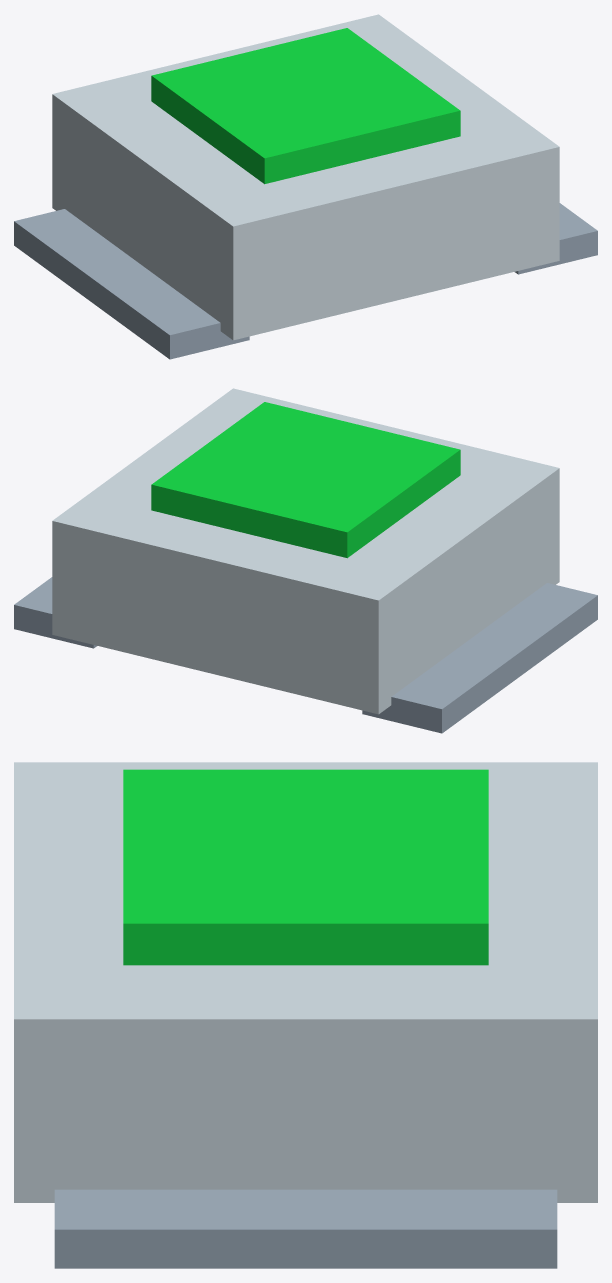
Rendered from 42_L96_LED1_LED.fbx.
The picture shows the model from 3 angles, top to bottom: view 1: azimuth 30°, elevation 25°; view 2: azimuth 150°, elevation 25°; view 3: azimuth 270°, elevation 25°; orthographic projection. The views are drawn at different scales.
Parts seen in each view (by area): view 1: LED1_000_SMD_LED_Reflector, LED1_001_Green_Emitter, LED1_002_Solder_Contact, LED1_003_Solder_Contact; view 2: LED1_000_SMD_LED_Reflector, LED1_001_Green_Emitter, LED1_002_Solder_Contact, LED1_003_Solder_Contact; view 3: LED1_000_SMD_LED_Reflector, LED1_001_Green_Emitter, LED1_003_Solder_Contact.
Part boxes in pixels (x1=…): LED1_000_SMD_LED_Reflector: x1=52, y1=14, x2=559, y2=340; LED1_001_Green_Emitter: x1=151, y1=28, x2=460, y2=184; LED1_002_Solder_Contact: x1=14, y1=209, x2=249, y2=359; LED1_003_Solder_Contact: x1=515, y1=203, x2=597, y2=274; LED1_000_SMD_LED_Reflector: x1=52, y1=388, x2=559, y2=714; LED1_001_Green_Emitter: x1=151, y1=402, x2=460, y2=558; LED1_002_Solder_Contact: x1=362, y1=583, x2=597, y2=733; LED1_003_Solder_Contact: x1=14, y1=577, x2=96, y2=648; LED1_000_SMD_LED_Reflector: x1=14, y1=762, x2=597, y2=1202; LED1_001_Green_Emitter: x1=123, y1=769, x2=488, y2=965; LED1_003_Solder_Contact: x1=54, y1=1189, x2=557, y2=1268.
Size of the model in its own units: 0.00295 by 0.00103 by 0.00216.
